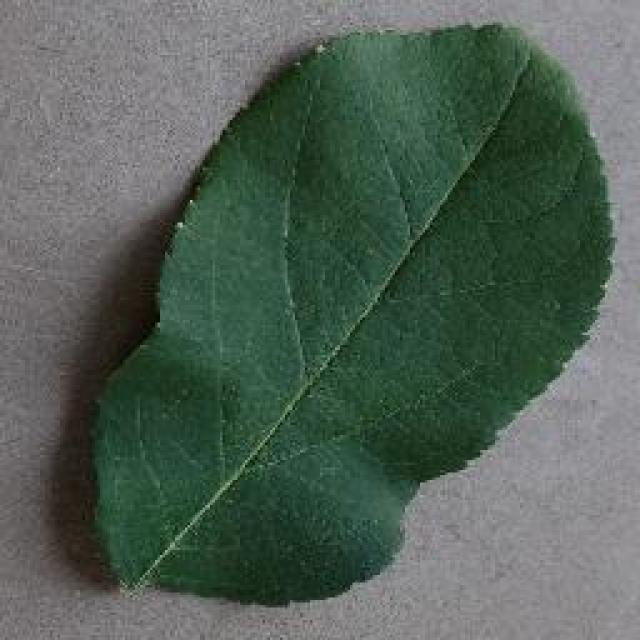apple healthy: (85, 18, 617, 608)
